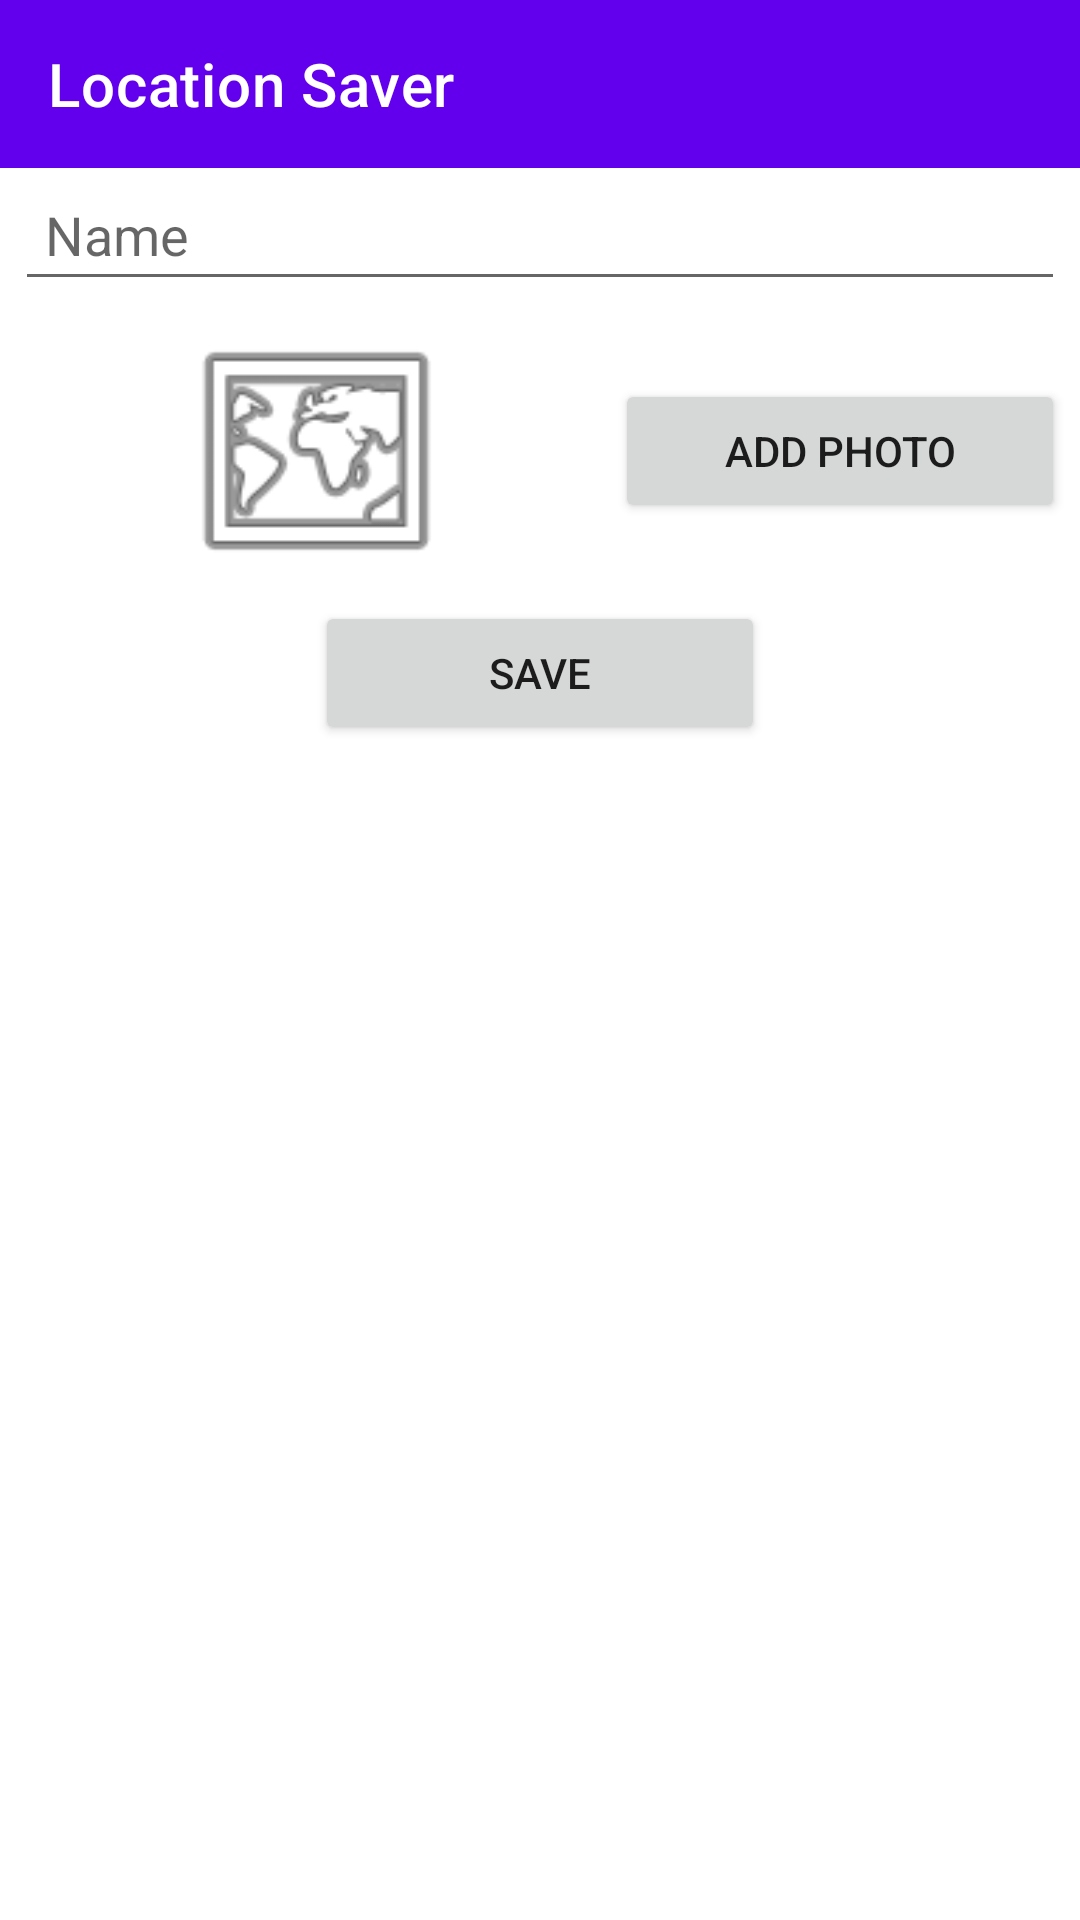

Point at icon controls on the screen. Image size 1080px×1920px, points as point (x, y).
mapmode: point (316, 451)
